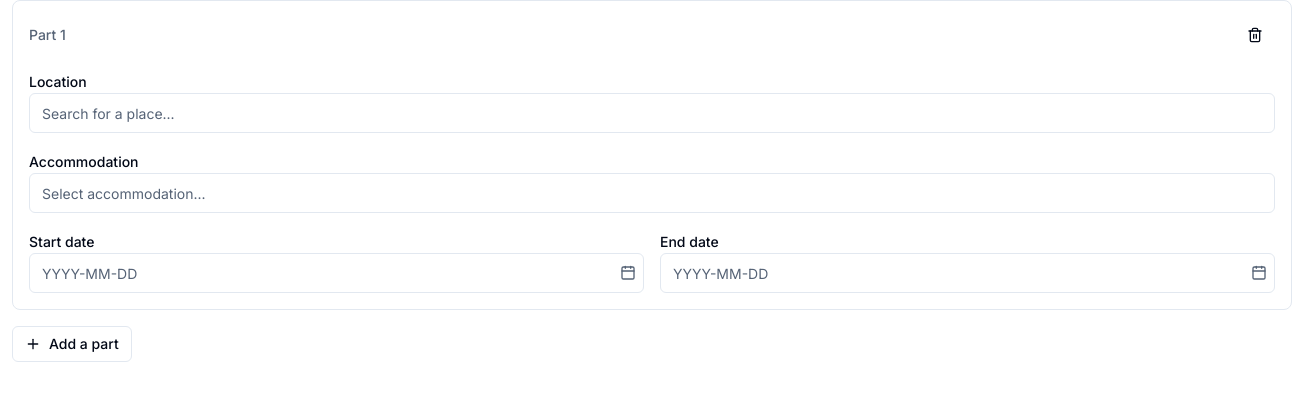
Test: TripPartsField › does not leave the menu open over the dates after a commit
Click the dropdown named "Location part" at {"x": 652, "y": 113}, box 29,93 -> 1275,133
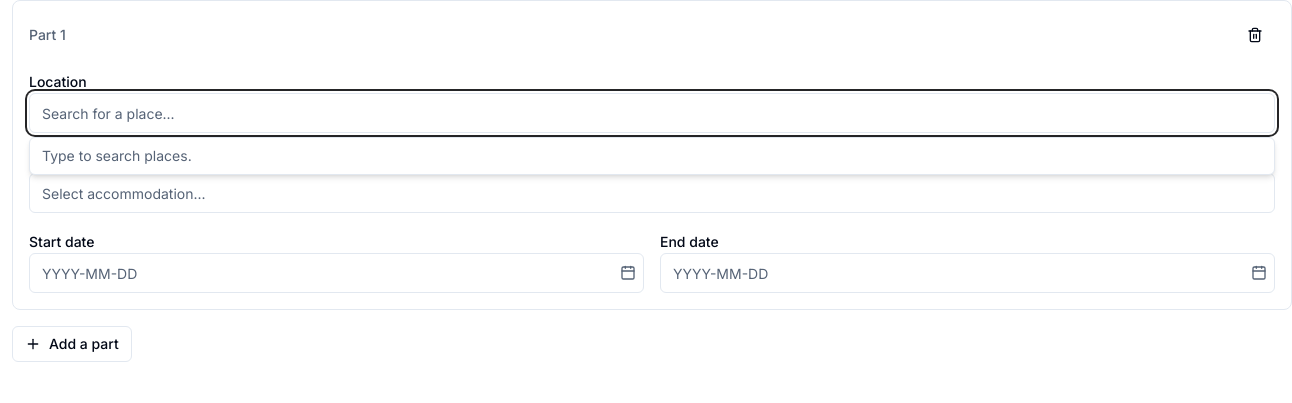
Type keys "Uncle Bob's House Reef"
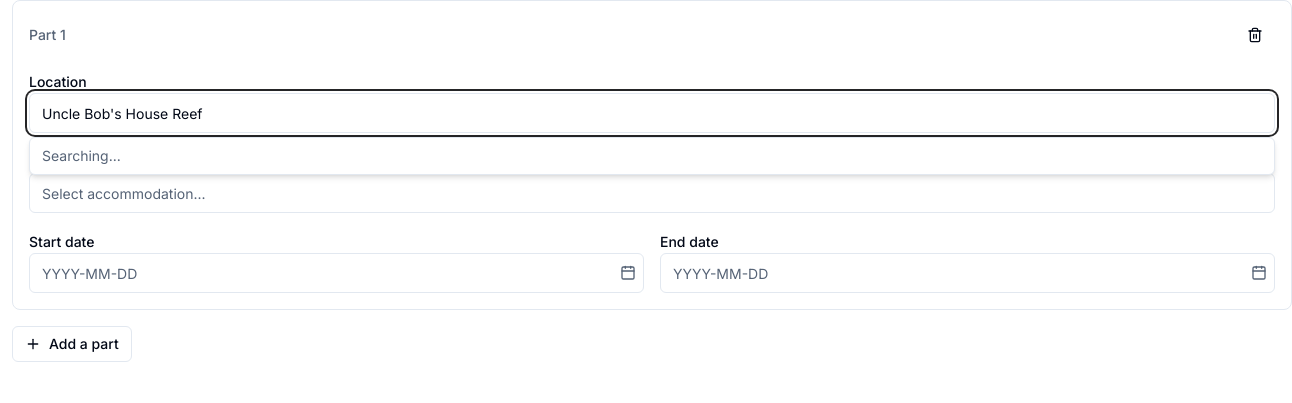
Press Enter
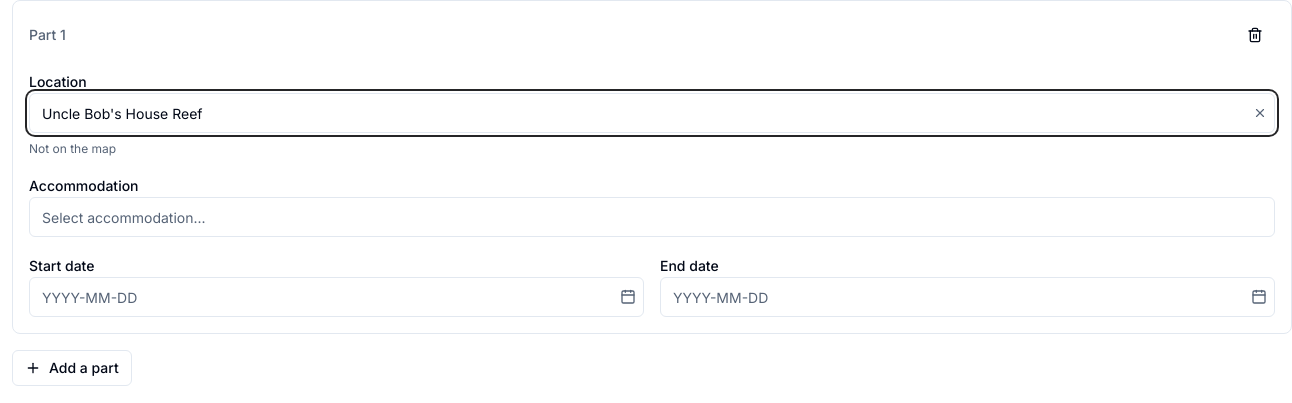
Now the list "Searching..." is gone
